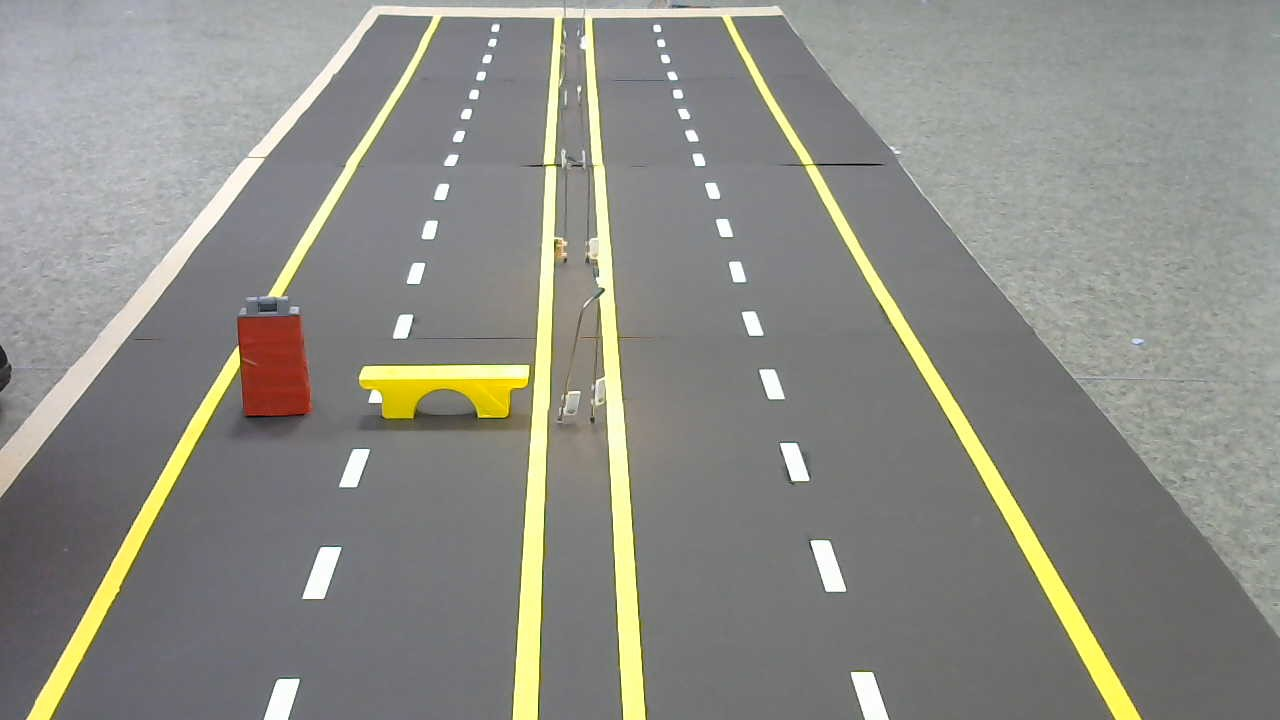accident: (230, 294, 316, 421)
emergency_situation: (351, 359, 533, 427)
